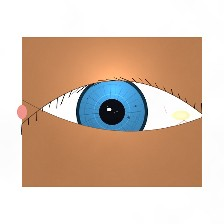pinguecula_lesion: (163, 101, 199, 130)
